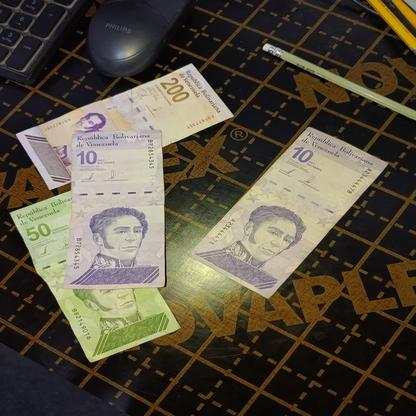fifty-front-vef: (10, 190, 181, 363)
ten-front-vef: (188, 126, 388, 300), (63, 130, 166, 290)
two_hundred-front-vef: (15, 62, 234, 190)
